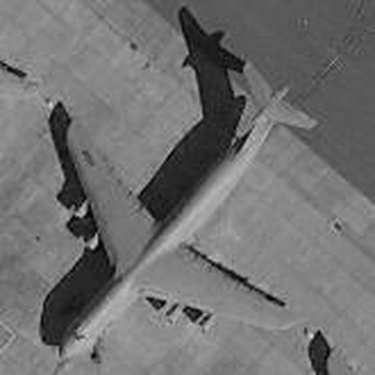airplane: (24, 24, 328, 370), (311, 329, 367, 374)
